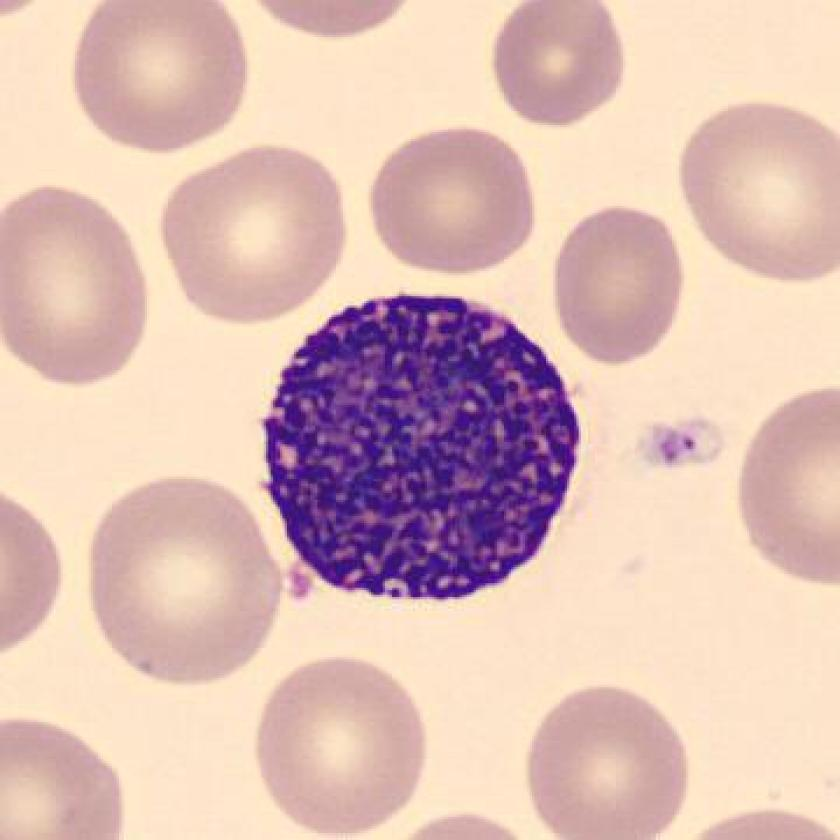basophil: (246, 277, 591, 631)
